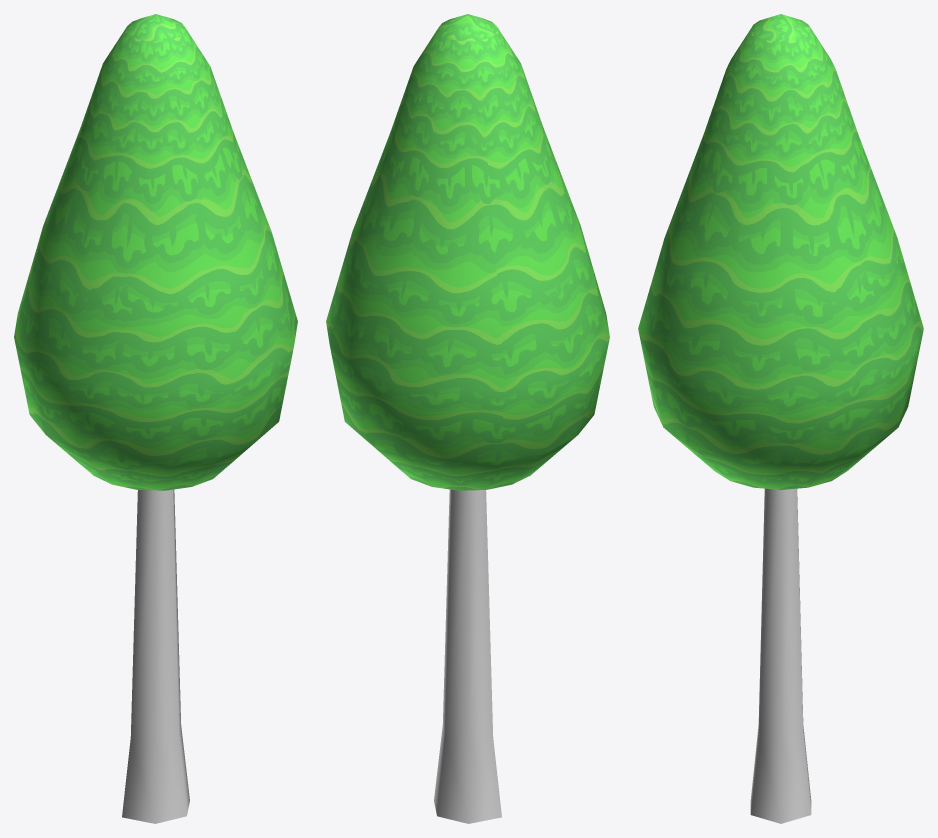
File: P_Tree_3.fbx
3 views of the same model, side by side, from view 1: azimuth 30°, elevation 25°; view 2: azimuth 150°, elevation 25°; view 3: azimuth 270°, elevation 25° (orthographic).
Parts seen in each view (by area): view 1: Sphere, Cube.002; view 2: Sphere, Cube.002; view 3: Sphere, Cube.002.
Boxes of the visible parts, x1,y1,x2,y2 form: Sphere: (14,14,297,490); Cube.002: (122,489,189,823); Sphere: (326,14,609,490); Cube.002: (434,489,501,823); Sphere: (638,14,923,489); Cube.002: (750,488,811,823).
Bounding box in the file's own units: 3.69 × 11.3 × 3.69.
